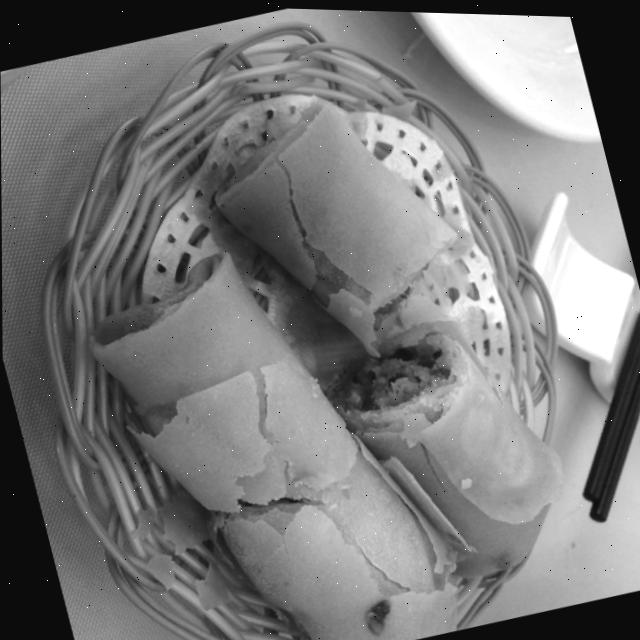炸货点心: (0, 0, 622, 640)
